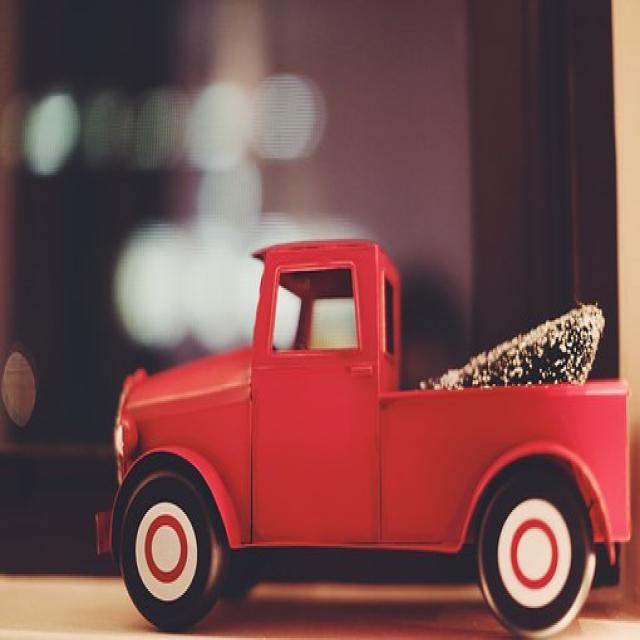Car: (94, 237, 631, 638)
